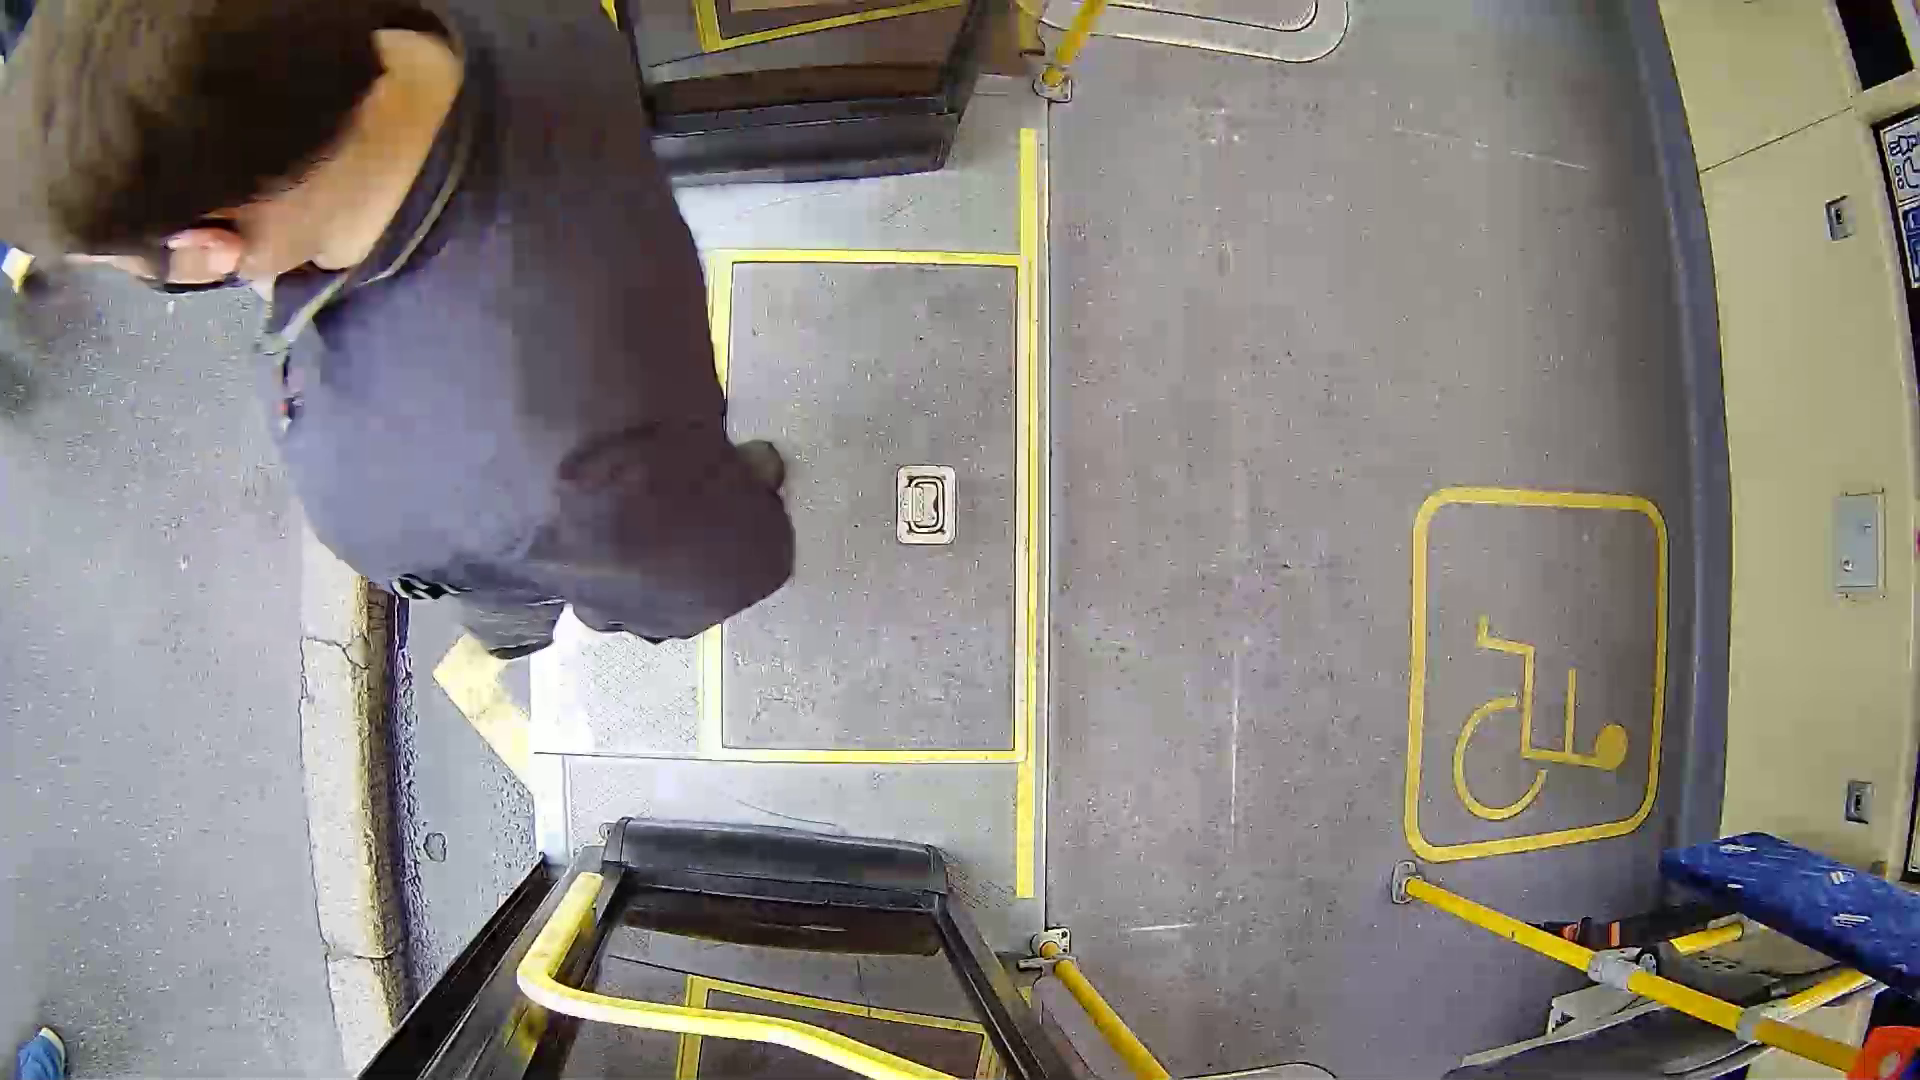person: (1, 5, 873, 685)
